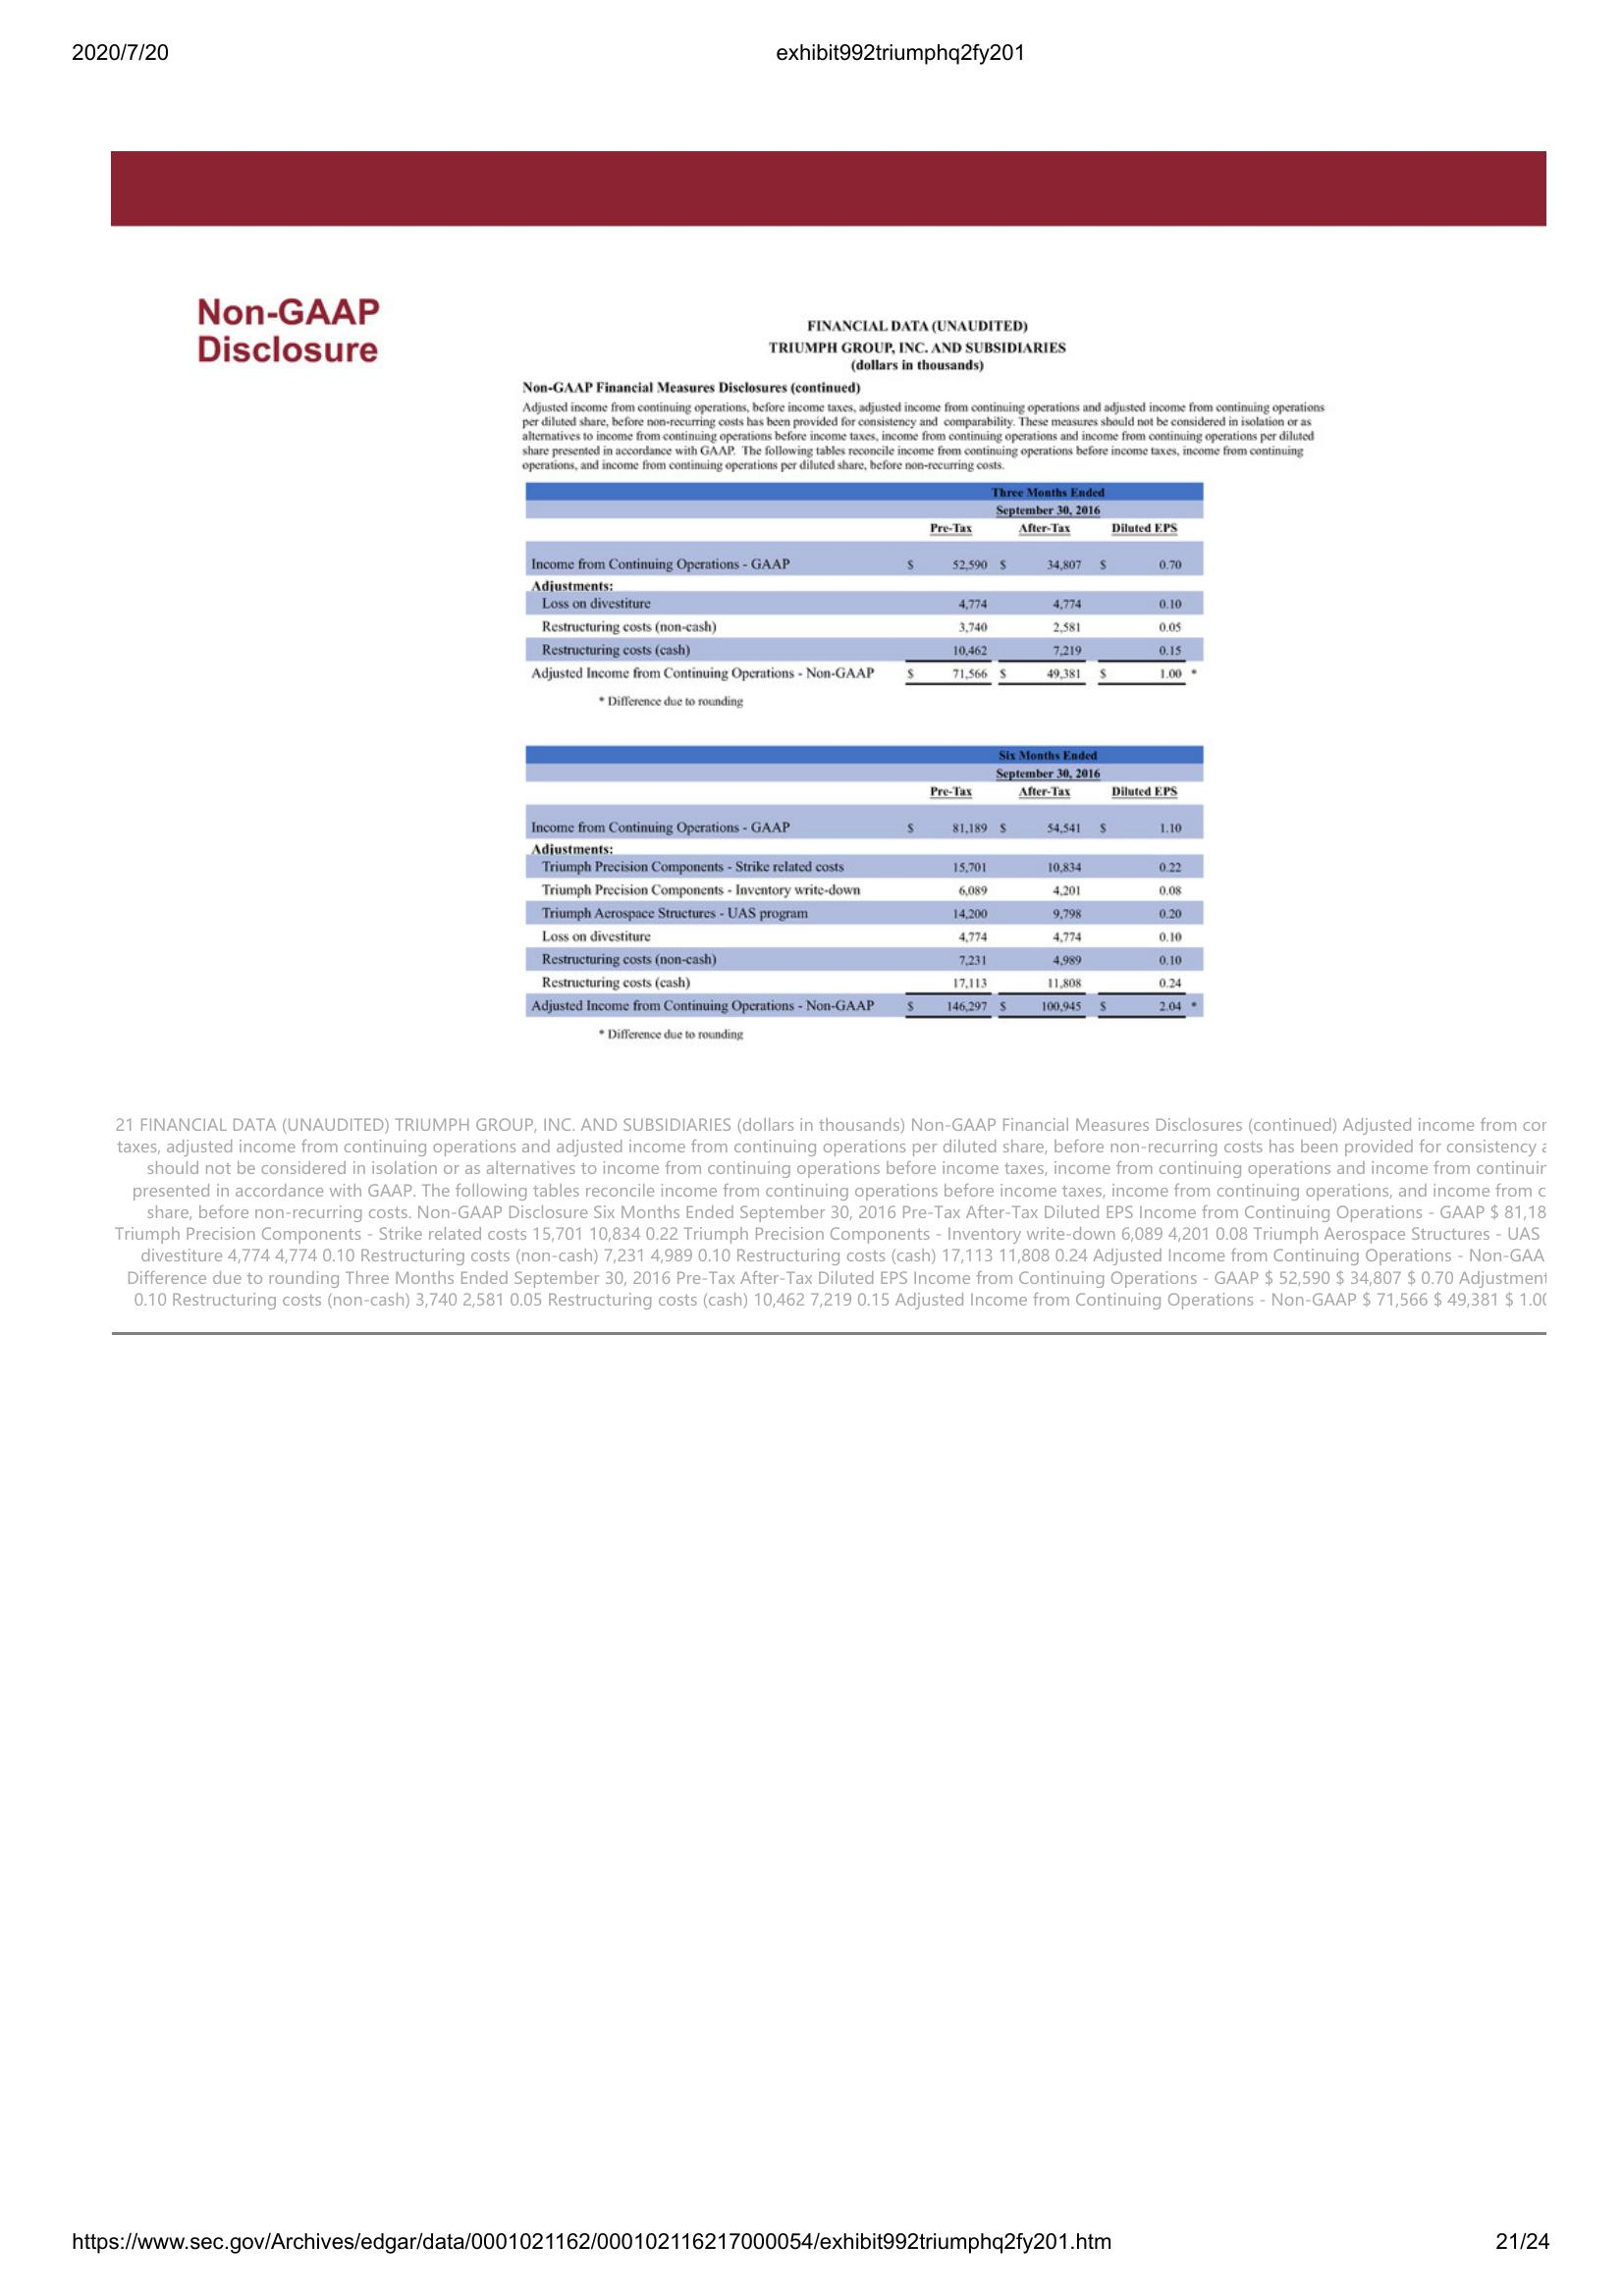table: (515, 739, 1210, 1023), (515, 474, 1217, 697)
